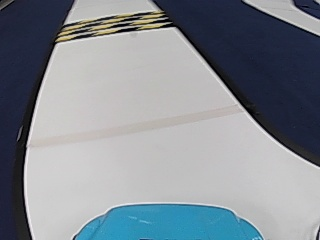bump: (74, 11, 161, 41)
